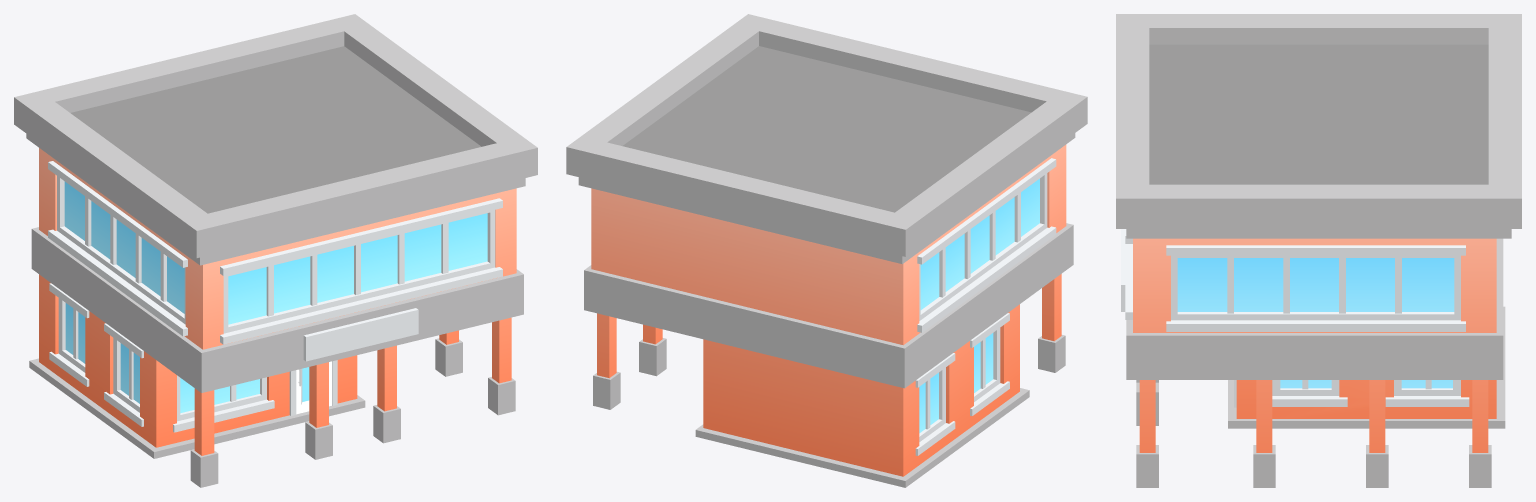
The model's file is Building_Living_37.glb.
The picture shows the model from 3 angles, left to right: view 1: azimuth 30°, elevation 25°; view 2: azimuth 150°, elevation 25°; view 3: azimuth 270°, elevation 25°; orthographic projection. The views are drawn at different scales.
Visible parts, largest first — view 1: Building_Living_37; view 2: Building_Living_37; view 3: Building_Living_37.
Part boxes in pixels (left/top/right/bottom): Building_Living_37: left=14, top=14, right=537, bottom=487; Building_Living_37: left=566, top=14, right=1087, bottom=487; Building_Living_37: left=1116, top=14, right=1521, bottom=487.
Bounding box in the file's own units: 10.33 × 7.72 × 9.59.
Materials: 1 (1 with a texture image).
